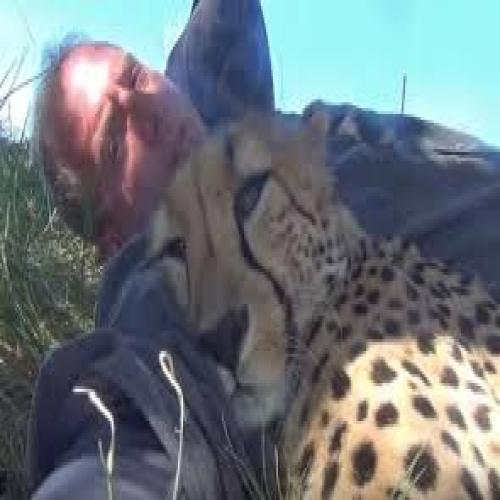cheetah-endangered: (144, 108, 500, 500)
